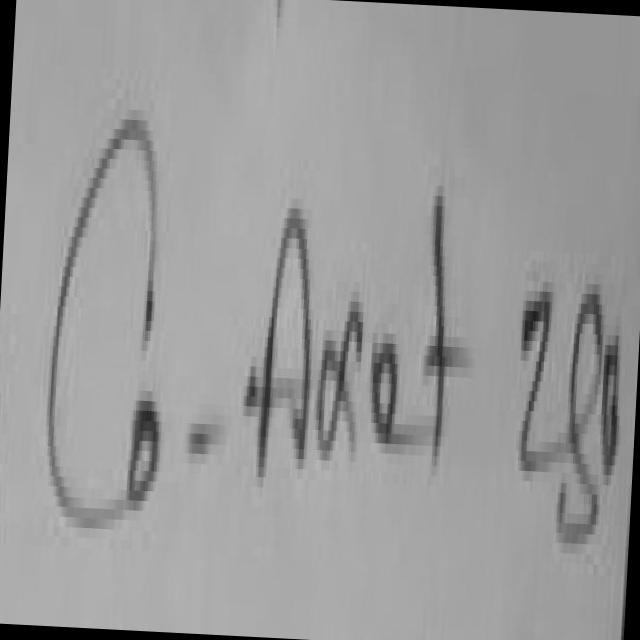0: (594, 300, 629, 486)
2: (501, 237, 573, 504)
5: (552, 250, 614, 574)
A: (238, 178, 328, 514)
C: (19, 65, 195, 570)
e: (361, 304, 428, 492)
o: (122, 366, 172, 540)
t: (407, 138, 475, 490)
x: (309, 262, 371, 503)
